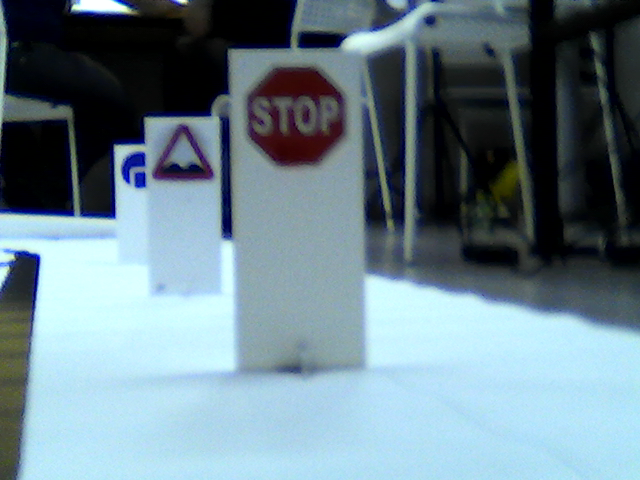Nerov: (152, 122, 213, 181)
Stop: (242, 60, 349, 170)
